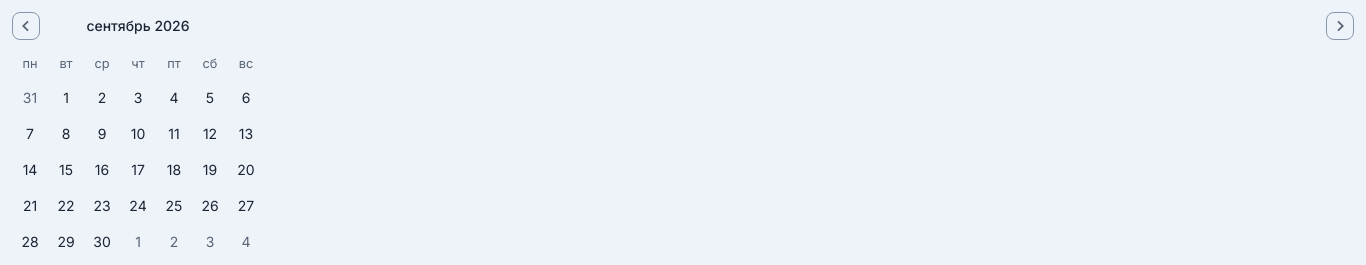
Scenario: anchors themed navigation above the grid and can navigate to the next month
This screenshot has width=1366, height=265.
Click the button named "Перейти к следующему месяцу" at [1340, 26], box x1=1326 y1=12 x2=1354 y2=40
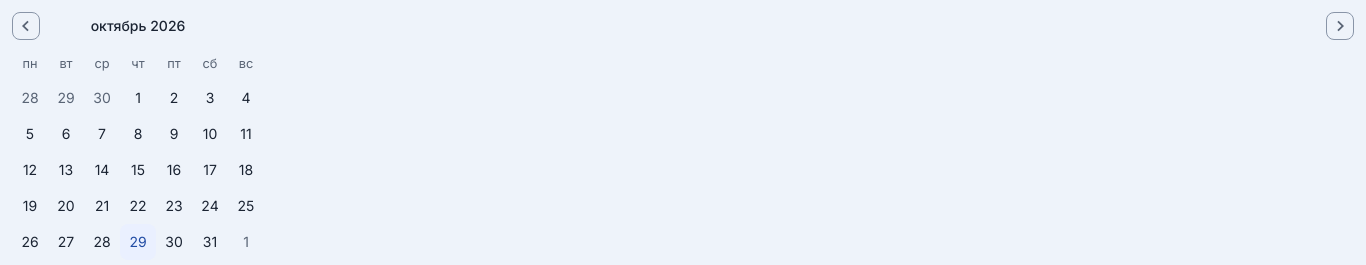
Check: the text "октябрь 2026" is shown, box x1=91 y1=16 x2=185 y2=36
